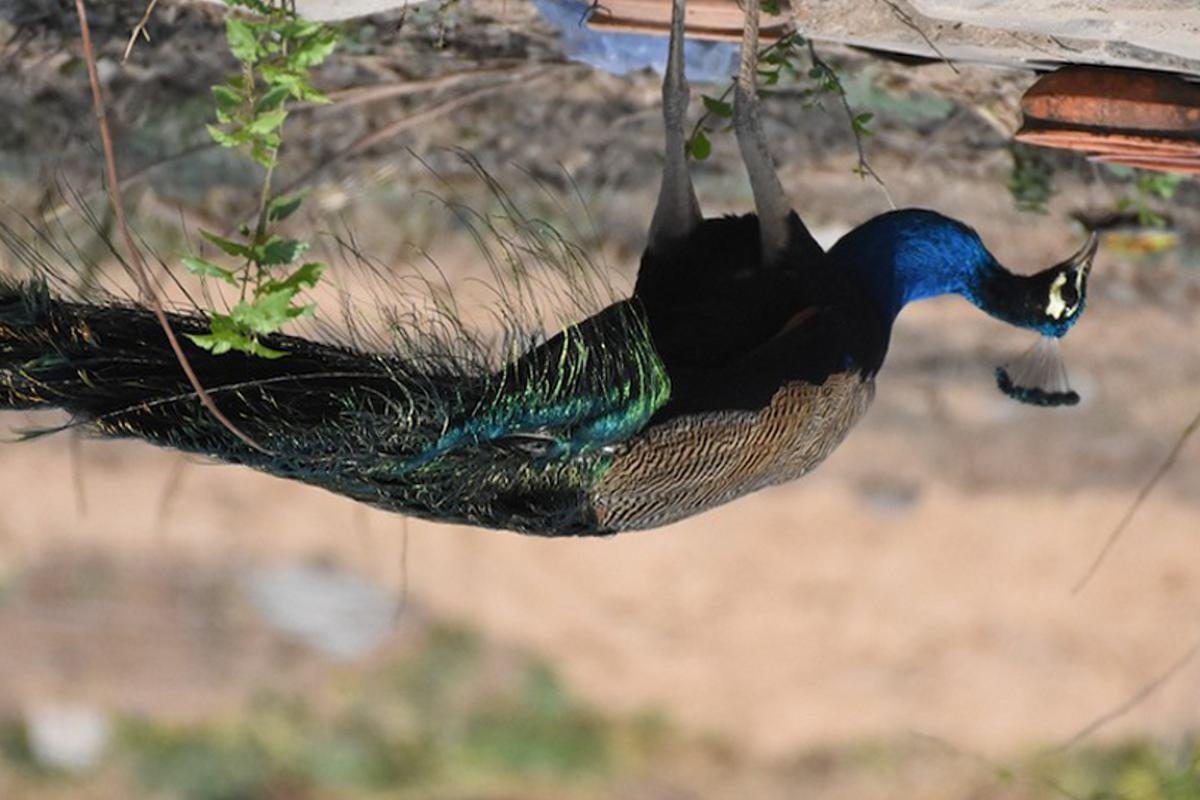peacock: (19, 106, 1149, 522)
